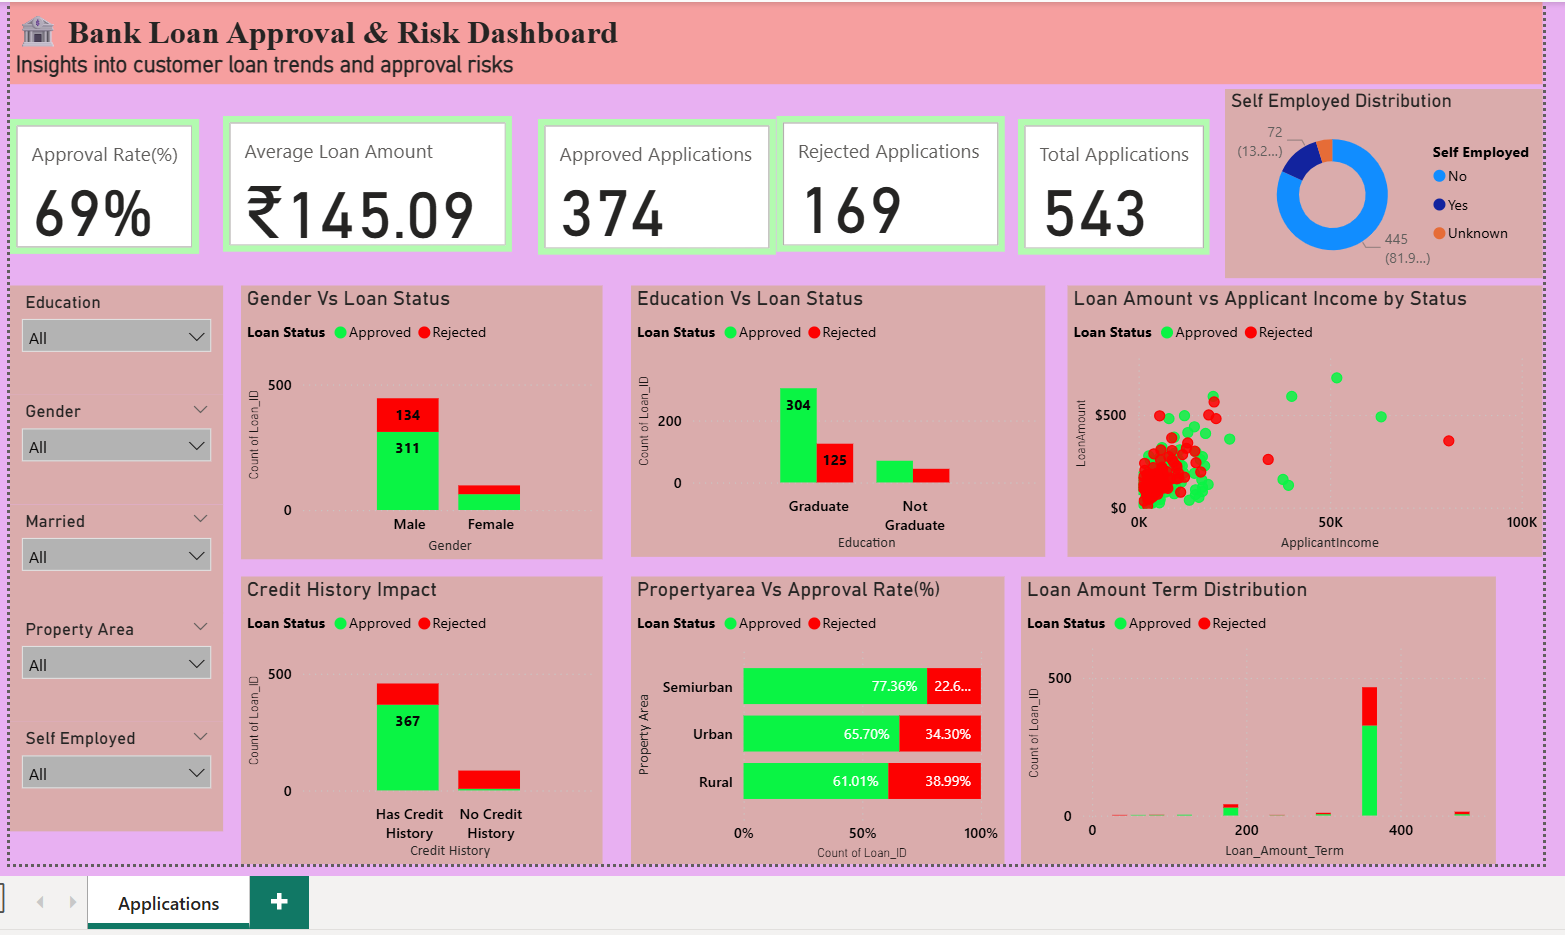

The page's visual inventory and layout, read from the dashboard file:
{"tool":"powerbi","page":{"name":"Page 1","canvas":[1280,720],"ordinal":0},"visuals":[{"type":"textbox","box":[0,0,1280,68.9],"z":0},{"type":"cardVisual","fields":{"Data":["loan_analysis_cleaned.Approval Rate(%)"]},"box":[0,97.4,157.8,112.5],"z":1000},{"type":"cardVisual","fields":{"Data":["loan_analysis_cleaned.Average Loan Amount"]},"box":[178.2,95.2,241,113.4],"z":2000},{"type":"cardVisual","fields":{"Data":["loan_analysis_cleaned.Rejected Applications"]},"box":[640,95.2,190.4,113.4],"z":3000},{"type":"cardVisual","fields":{"Data":["loan_analysis_cleaned.Approved Applications"]},"box":[441.5,97.2,198.5,113.4],"z":4000},{"type":"cardVisual","fields":{"Data":["loan_analysis_cleaned.Total Applications"]},"box":[842.5,97.2,160,113.4],"z":5000},{"type":"slicer","fields":{"Values":["loan_analysis_cleaned.Education"]},"box":[0,237,178.2,91.1],"z":6000},{"type":"slicer","fields":{"Values":["loan_analysis_cleaned.Gender"]},"box":[0,328.1,178.2,91.1],"z":7000},{"type":"slicer","fields":{"Values":["loan_analysis_cleaned.Married"]},"box":[0,419.2,178.2,91.1],"z":8000},{"type":"slicer","fields":{"Values":["loan_analysis_cleaned.Property Area"]},"box":[0,510.4,178.2,91.1],"z":9000},{"type":"slicer","fields":{"Values":["loan_analysis_cleaned.Self Employed"]},"box":[0,601.5,178.2,91.1],"z":10000},{"type":"columnChart","title":"Gender Vs Loan Status","fields":{"Category":["loan_analysis_cleaned.Gender"],"Y":["CountNonNull(loan_analysis_cleaned.Loan_ID)"],"Series":["loan_analysis_cleaned.Loan Status"]},"box":[192.4,237,301.8,228.9],"z":11000},{"type":"clusteredColumnChart","title":"Education Vs Loan Status","fields":{"Category":["loan_analysis_cleaned.Education"],"Y":["CountNonNull(loan_analysis_cleaned.Loan_ID)"],"Series":["loan_analysis_cleaned.Loan Status"]},"box":[518.5,237,346.3,226.8],"z":12000},{"type":"scatterChart","title":"Loan Amount vs Applicant Income by Status","fields":{"X":["Sum(loan_analysis_cleaned.ApplicantIncome)"],"Y":["Sum(loan_analysis_cleaned.LoanAmount)"],"Series":["loan_analysis_cleaned.Loan Status"]},"box":[883,237,397,226.8],"z":13000},{"type":"columnChart","title":"Credit History Impact","fields":{"Category":["loan_analysis_cleaned.Credit History"],"Y":["CountNonNull(loan_analysis_cleaned.Loan_ID)"],"Series":["loan_analysis_cleaned.Loan Status"]},"box":[192.4,480,301.8,241],"z":14000},{"type":"hundredPercentStackedBarChart","title":"Propertyarea Vs Approval Rate(%)","fields":{"Category":["loan_analysis_cleaned.Property Area"],"Y":["CountNonNull(loan_analysis_cleaned.Loan_ID)"],"Series":["loan_analysis_cleaned.Loan Status"]},"box":[518.5,480,311.9,241],"z":15000},{"type":"columnChart","title":"Loan Amount Term Distribution","fields":{"Category":["loan_analysis_cleaned.Loan_Amount_Term"],"Y":["CountNonNull(loan_analysis_cleaned.Loan_ID)"],"Series":["loan_analysis_cleaned.Loan Status"]},"box":[844.6,480,397,241],"z":16000},{"type":"donutChart","title":"Self Employed Distribution ","fields":{"Category":["loan_analysis_cleaned.Self Employed"],"Y":["CountNonNull(loan_analysis_cleaned.Loan_ID)"]},"box":[1014.9,72.7,265.6,157.9],"z":17000}]}

Visuals, with their boxes on the page's 1280x720 design canvas (x1, y1, x2, y2). These are canvas units, not pixel positions in the 1565x935 screenshot, which may show the page scaled, cropped or inside an application window:
textbox: Rect(0, 0, 1280, 69)
cardVisual - loan_analysis_cleaned.Approval Rate(%): Rect(0, 97, 158, 210)
cardVisual - loan_analysis_cleaned.Average Loan Amount: Rect(178, 95, 419, 209)
cardVisual - loan_analysis_cleaned.Rejected Applications: Rect(640, 95, 830, 209)
cardVisual - loan_analysis_cleaned.Approved Applications: Rect(442, 97, 640, 211)
cardVisual - loan_analysis_cleaned.Total Applications: Rect(842, 97, 1002, 211)
slicer - loan_analysis_cleaned.Education: Rect(0, 237, 178, 328)
slicer - loan_analysis_cleaned.Gender: Rect(0, 328, 178, 419)
slicer - loan_analysis_cleaned.Married: Rect(0, 419, 178, 510)
slicer - loan_analysis_cleaned.Property Area: Rect(0, 510, 178, 602)
slicer - loan_analysis_cleaned.Self Employed: Rect(0, 602, 178, 693)
"Gender Vs Loan Status" columnChart: Rect(192, 237, 494, 466)
"Education Vs Loan Status" clusteredColumnChart: Rect(518, 237, 865, 464)
"Loan Amount vs Applicant Income by Status" scatterChart: Rect(883, 237, 1280, 464)
"Credit History Impact" columnChart: Rect(192, 480, 494, 721)
"Propertyarea Vs Approval Rate(%)" hundredPercentStackedBarChart: Rect(518, 480, 830, 721)
"Loan Amount Term Distribution" columnChart: Rect(845, 480, 1242, 721)
"Self Employed Distribution " donutChart: Rect(1015, 73, 1280, 231)
